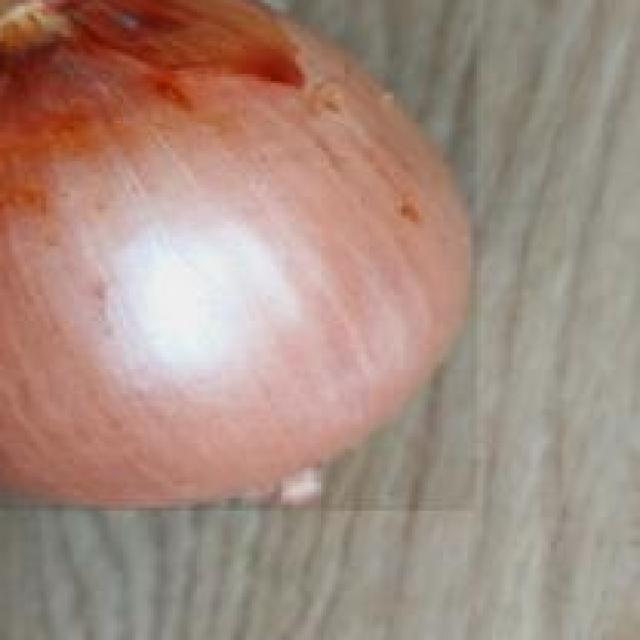onion: (0, 0, 480, 514)
